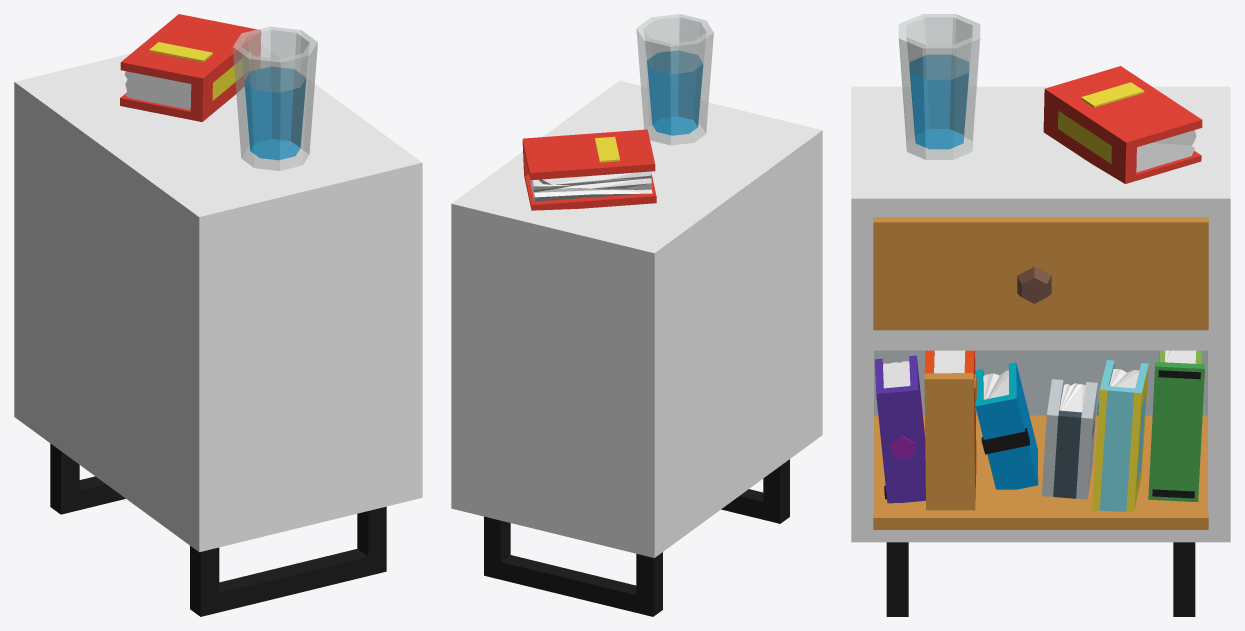
File: nightstand.glb
The picture shows the model from 3 angles, left to right: view 1: azimuth 30°, elevation 25°; view 2: azimuth 150°, elevation 25°; view 3: azimuth 270°, elevation 25°; orthographic projection. The views are drawn at different scales.
Parts seen in each view (by area): view 1: group1888383277, group69467889, group963747135, group1643316876, group274274577; view 2: group1888383277, group69467889, group963747135, group274274577, group1643316876; view 3: group1888383277, group1013878971, group720230303, group69467889, group963747135, group1555237233, group205743288, group1808129529, group751994868, group846394324, group65416316, group1643316876 (+1 smaller).
Boxes of the visible parts, left/top/right/bottom form: group1888383277: left=14, top=45, right=422, bottom=552; group69467889: left=120, top=14, right=260, bottom=121; group963747135: left=233, top=26, right=317, bottom=170; group1643316876: left=190, top=506, right=386, bottom=616; group274274577: left=50, top=443, right=125, bottom=514; group1888383277: left=451, top=80, right=822, bottom=557; group69467889: left=522, top=129, right=656, bottom=210; group963747135: left=636, top=14, right=713, bottom=145; group274274577: left=484, top=516, right=662, bottom=616; group1643316876: left=721, top=459, right=789, bottom=523; group1888383277: left=851, top=86, right=1230, bottom=542; group1013878971: left=873, top=217, right=1208, bottom=330; group720230303: left=873, top=415, right=1208, bottom=529; group69467889: left=1043, top=66, right=1202, bottom=183; group963747135: left=898, top=14, right=980, bottom=159; group1555237233: left=924, top=350, right=976, bottom=510; group205743288: left=1148, top=350, right=1204, bottom=501; group1808129529: left=1092, top=360, right=1148, bottom=511; group751994868: left=874, top=355, right=925, bottom=503; group846394324: left=975, top=362, right=1038, bottom=489; group65416316: left=1041, top=379, right=1097, bottom=499; group1643316876: left=886, top=542, right=908, bottom=616.
Bounding box in the file's own units: 0.688 × 1.36 × 0.86.
